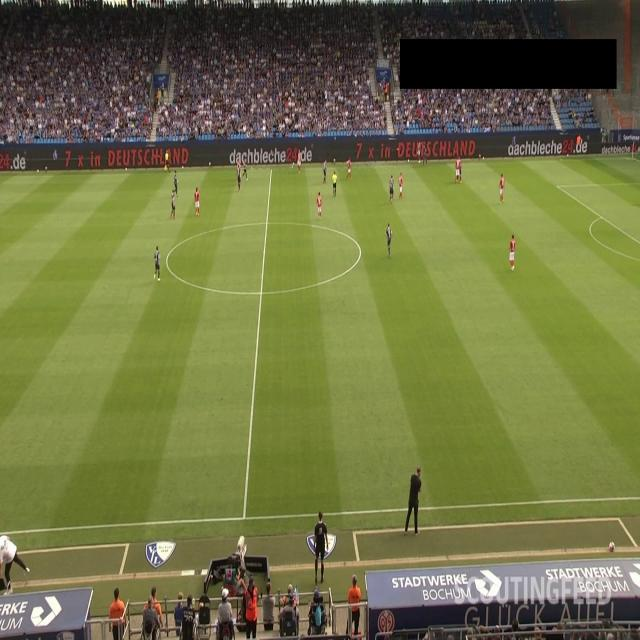ball: (406, 158, 411, 165)
player: (508, 233, 516, 273), (153, 245, 161, 283), (498, 172, 506, 206), (386, 222, 393, 260), (316, 190, 324, 222), (194, 185, 201, 218), (170, 189, 177, 220), (321, 159, 328, 184), (242, 154, 248, 183), (296, 147, 302, 175), (388, 174, 394, 202), (236, 165, 242, 191), (398, 172, 403, 202), (346, 157, 352, 181), (455, 158, 461, 181), (423, 142, 428, 167), (417, 140, 422, 164), (458, 155, 463, 178), (174, 167, 178, 195), (236, 160, 240, 180)
